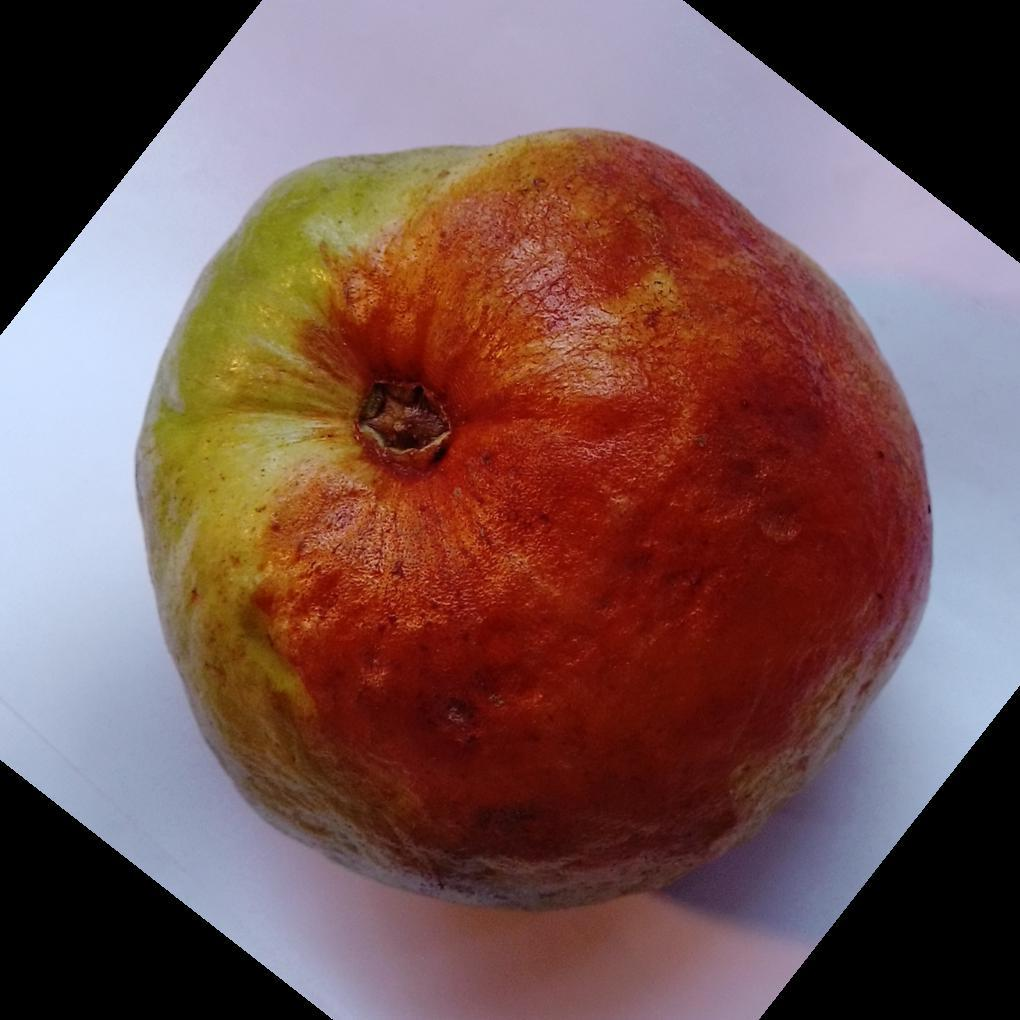FreshOrange: (132, 129, 935, 916)
